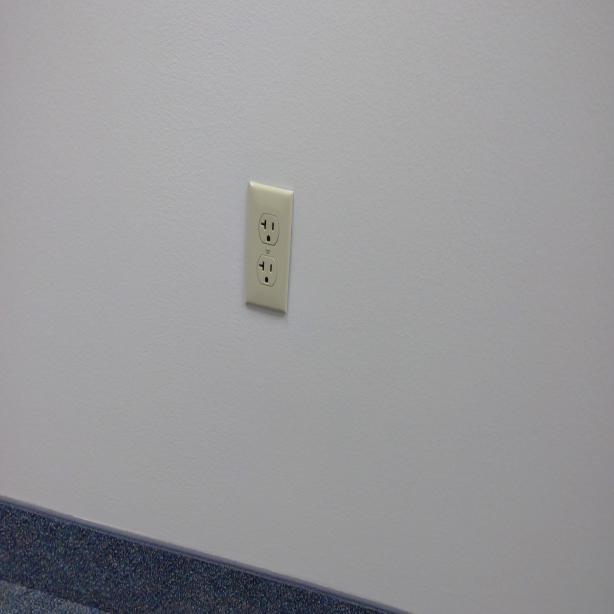typeb: (256, 255, 277, 288), (260, 210, 278, 247)
